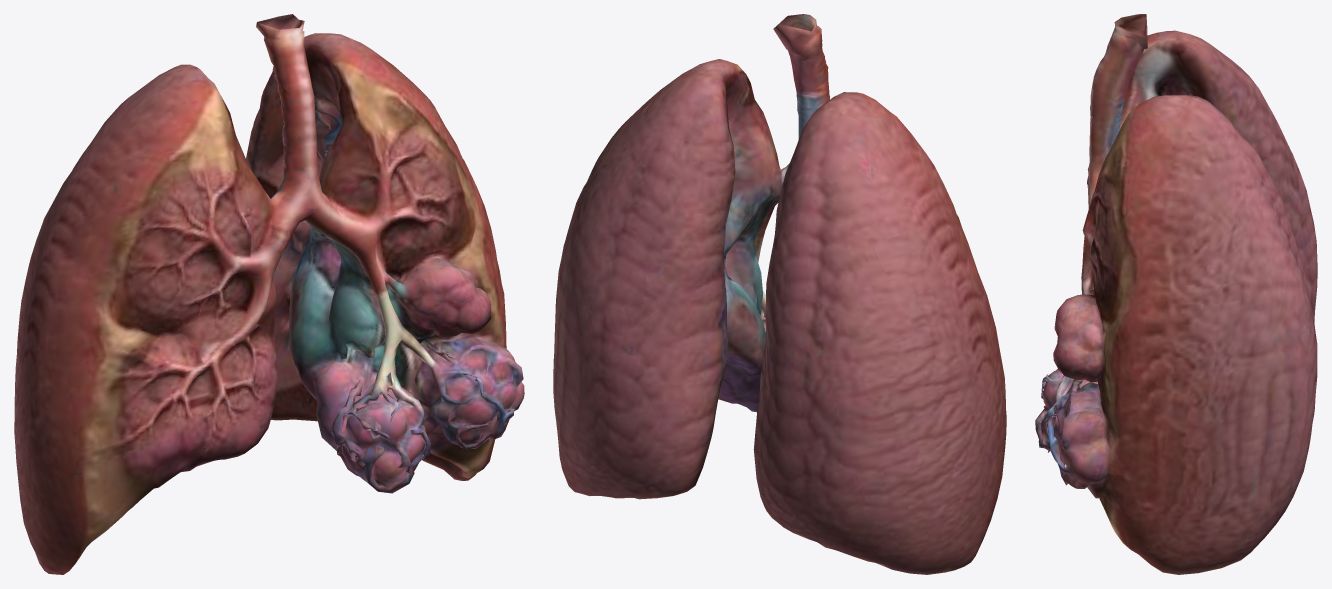
File: Lungs.glb
The picture shows the model from 3 angles, left to right: view 1: azimuth 30°, elevation 25°; view 2: azimuth 150°, elevation 25°; view 3: azimuth 270°, elevation 25°; orthographic projection. The views are drawn at different scales.
Parts seen in each view (by area): view 1: Lungs; view 2: Lungs; view 3: Lungs.
Boxes of the visible parts, x1,y1,x2,y2 form: Lungs: (14, 14, 524, 574); Lungs: (553, 14, 1006, 574); Lungs: (1035, 14, 1317, 574).
Bounding box in the file's own units: 0.1674 × 0.1795 × 0.0987.
1 material, 1 textured.
